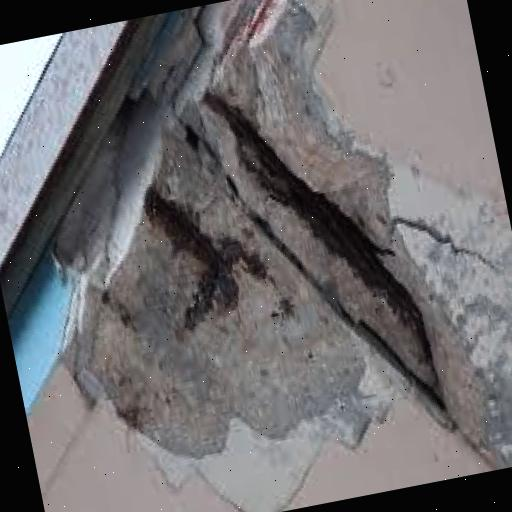spalling: (80, 45, 488, 448)
